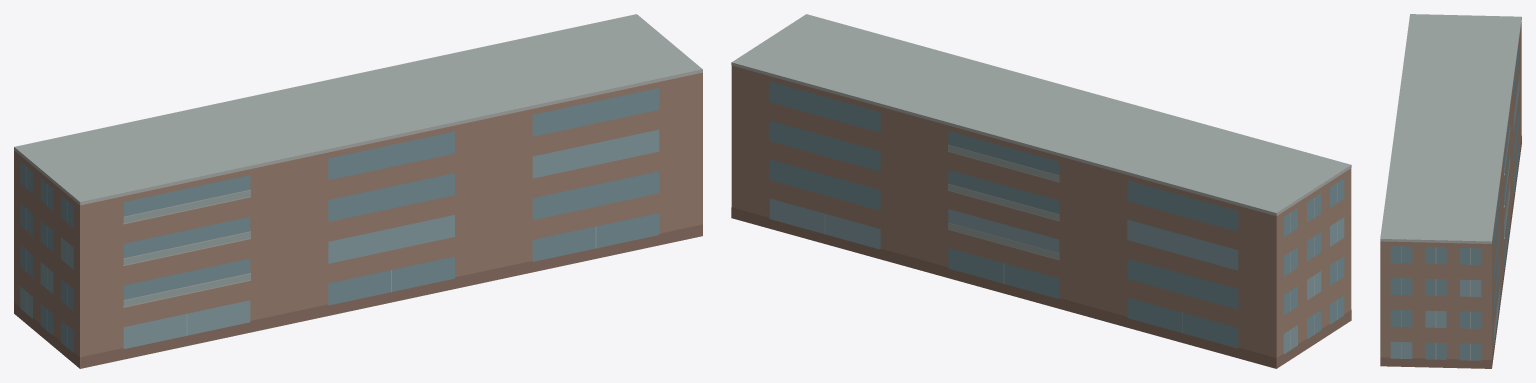
The model's file is residential-06ad2fad-ece7-4ff8-b584-d0a676561a34.glb.
3 renders of one model, left to right at view 1: azimuth 30°, elevation 25°; view 2: azimuth 150°, elevation 25°; view 3: azimuth 270°, elevation 25°, orthographic. The views are drawn at different scales.
Parts seen in each view (by area): view 1: residential-06ad2fad-ece7-4ff8-b584-d0a676561a34.tmp; view 2: residential-06ad2fad-ece7-4ff8-b584-d0a676561a34.tmp; view 3: residential-06ad2fad-ece7-4ff8-b584-d0a676561a34.tmp.
Boxes of the visible parts, x1,y1,x2,y2 form: residential-06ad2fad-ece7-4ff8-b584-d0a676561a34.tmp: (14, 14, 702, 368); residential-06ad2fad-ece7-4ff8-b584-d0a676561a34.tmp: (731, 14, 1351, 368); residential-06ad2fad-ece7-4ff8-b584-d0a676561a34.tmp: (1380, 14, 1521, 368).
Size of the model in its own units: 46.72 by 12.2 by 12.3.
